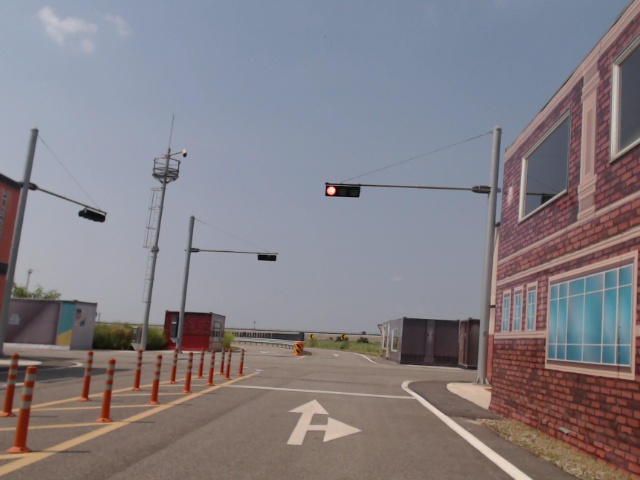red_3: (325, 183, 361, 197)
